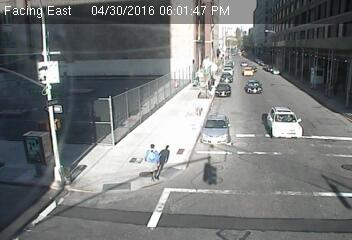neg: (166, 80, 195, 120), (217, 71, 241, 103)
pos: (135, 140, 165, 181)
